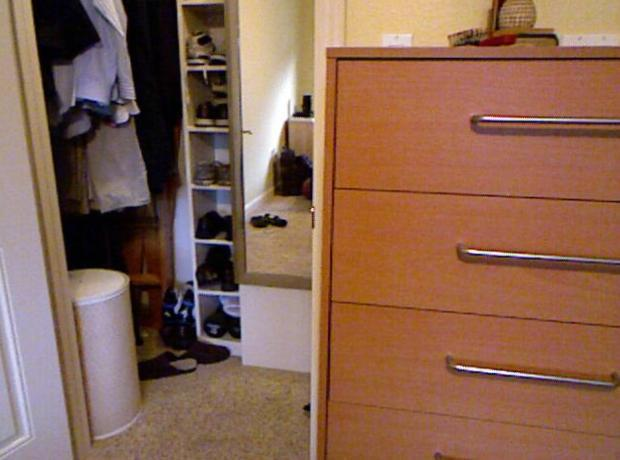Armario: (327, 44, 615, 458)
